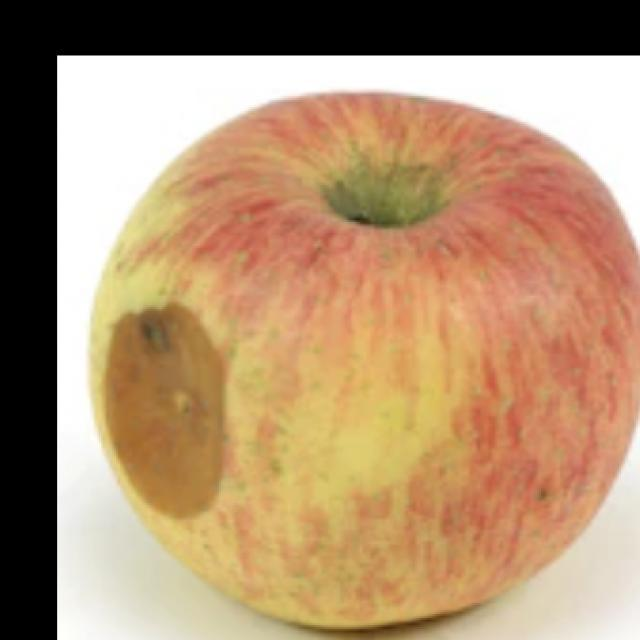Rotten: (123, 106, 640, 639)
